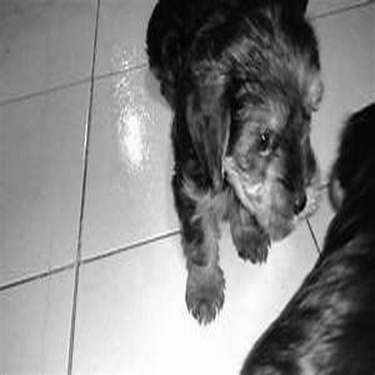dog: (135, 1, 336, 328), (244, 89, 369, 370)
